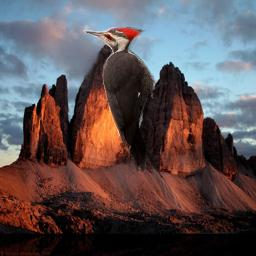Woodpecker: (82, 27, 158, 172)
